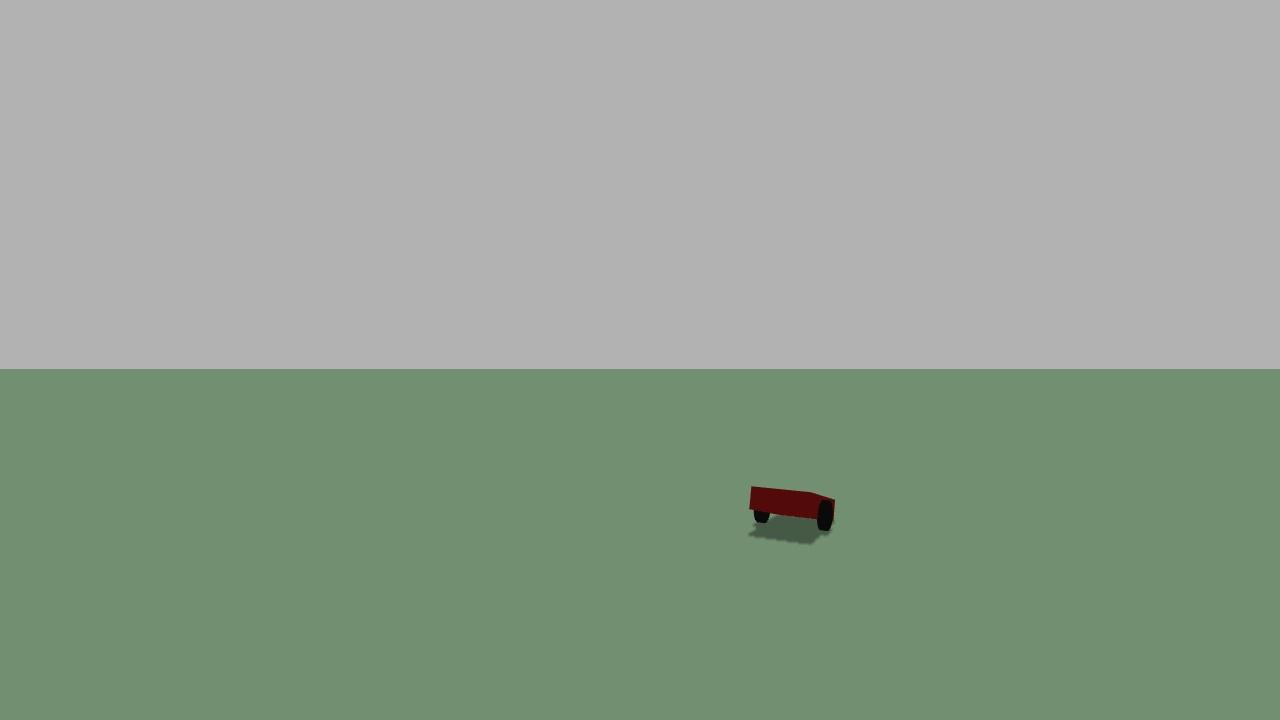ground_vehicle: (745, 475, 842, 546)
